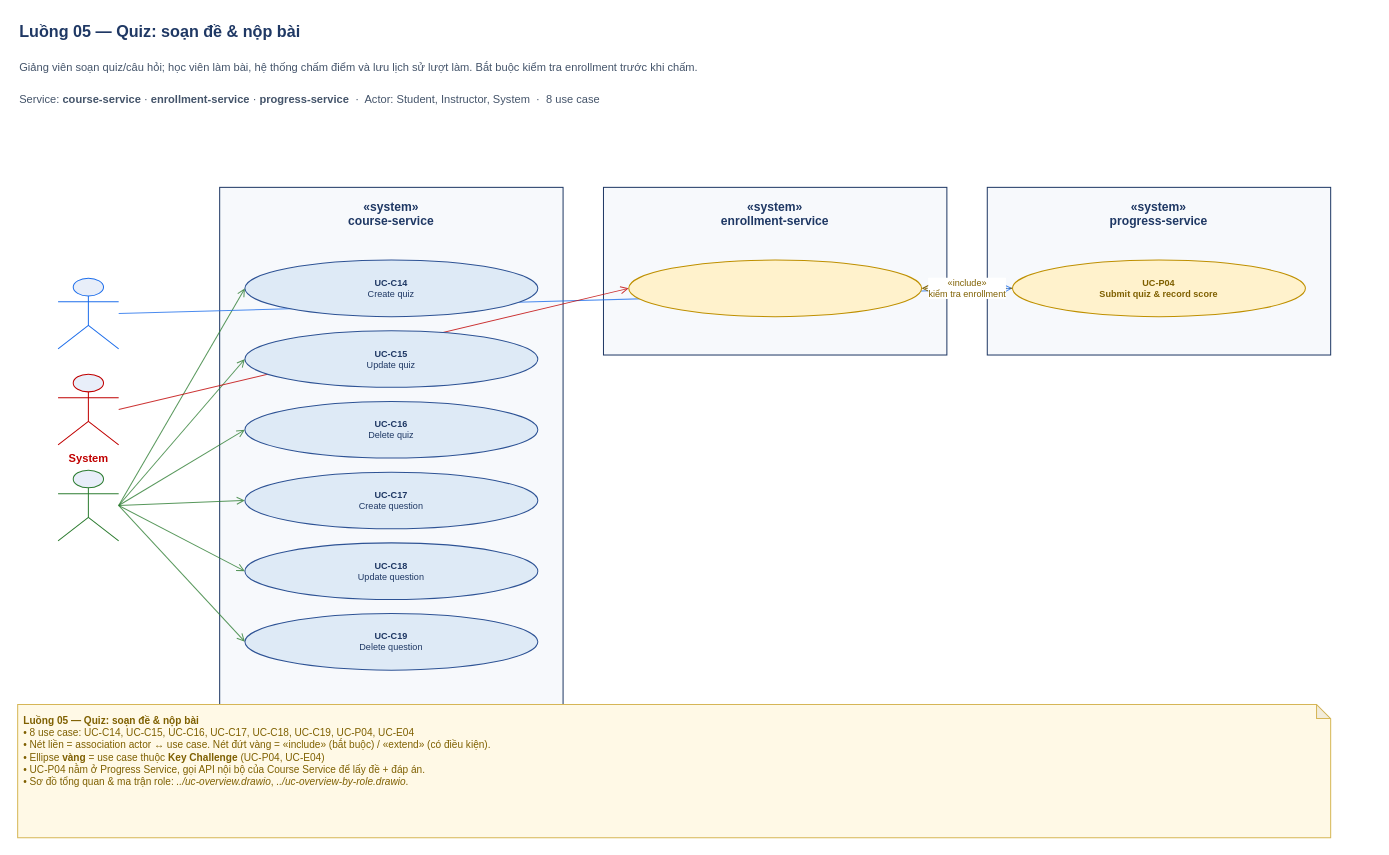
This 1389x855 diagram has some shape labels left out. The shapes that lost their labels are listed below. From the top down, each one's centre as x and y in pixels, then its label:
(x=775, y=288): UC-E04 Check enrollment status
(x=88, y=313): Student
(x=88, y=505): Instructor
